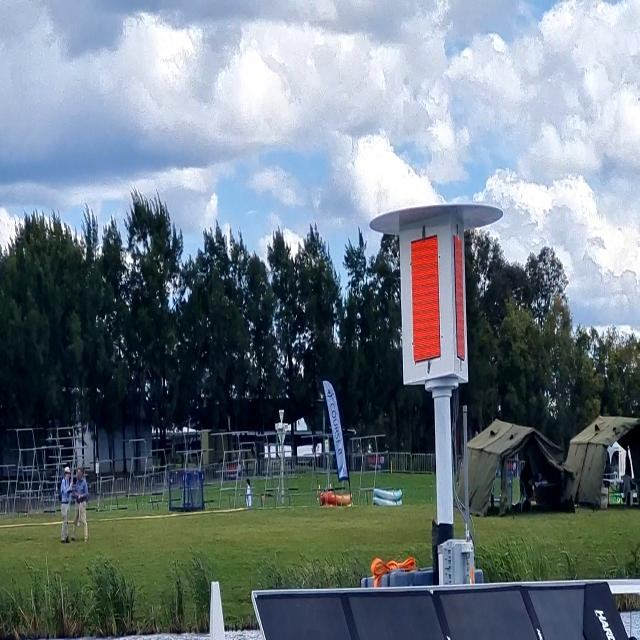led: (404, 232, 446, 363)
